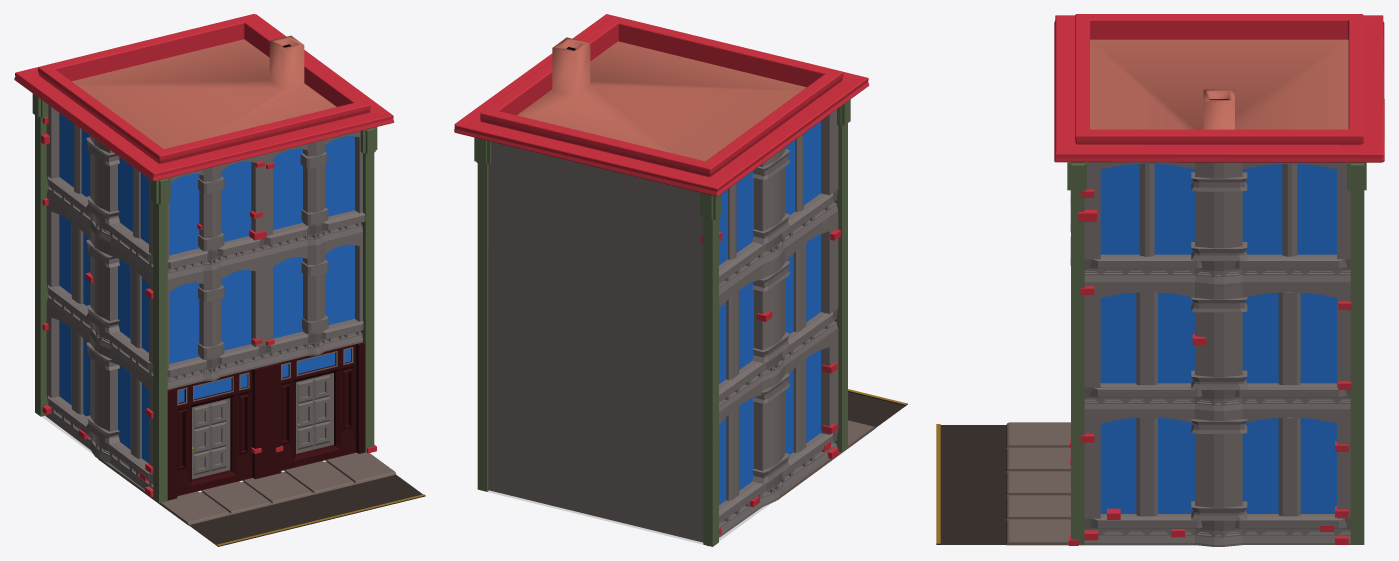
Rendered from PredioNovo4.fbx.
3 views of the same model, side by side, from view 1: azimuth 30°, elevation 25°; view 2: azimuth 150°, elevation 25°; view 3: azimuth 270°, elevation 25° (orthographic). The views are drawn at different scales.
Parts seen in each view (by area): view 1: Teto, Teto.001, Parede.001, Parede.002, Parede.004, Parede.020, Parede.018, Calçada, Parede.019, Rua, Pilastra.002, Pilastra.003 (+20 smaller); view 2: Parede.007, Parede.008, Teto, Parede.009, Teto.001, Parede.020, Parede.018, Parede.019, Pilastra.003, Pilastra.001, Janela.017, Janela.016 (+6 smaller); view 3: Teto, Teto.001, Parede.006, Parede.003, Parede.005, Janela.013, Janela.011, Calçada, Rua, Janela.009, Janela.010, Pilastra.001 (+8 smaller).
Boxes of the visible parts, box(x1,y1,x2,y2) form: Teto: box(14, 14, 394, 181); Teto.001: box(72, 35, 336, 148); Parede.001: box(167, 342, 365, 500); Parede.002: box(167, 234, 362, 389); Parede.004: box(167, 131, 362, 281); Parede.020: box(45, 302, 153, 489); Parede.018: box(46, 197, 153, 381); Calçada: box(98, 452, 395, 525); Parede.019: box(46, 105, 153, 276); Rua: box(189, 475, 425, 546); Pilastra.002: box(151, 177, 170, 502); Pilastra.003: box(32, 93, 49, 416); Parede.007: box(488, 367, 703, 542); Parede.008: box(488, 245, 703, 419); Teto: box(454, 14, 869, 196); Parede.009: box(488, 141, 703, 297); Teto.001: box(517, 37, 806, 161); Parede.020: box(707, 328, 838, 546); Parede.018: box(719, 213, 838, 414); Parede.019: box(719, 109, 838, 296); Pilastra.003: box(700, 192, 721, 546); Pilastra.001: box(474, 137, 491, 491); Janela.017: box(719, 350, 820, 504); Janela.016: box(719, 234, 820, 383); Teto: box(1054, 14, 1384, 162); Teto.001: box(1090, 39, 1348, 129); Parede.006: box(1084, 409, 1350, 546); Parede.003: box(1084, 284, 1350, 410); Parede.005: box(1084, 162, 1350, 285); Janela.013: box(1100, 418, 1336, 513); Janela.011: box(1100, 292, 1336, 383); Calçada: box(1006, 422, 1194, 545); Rua: box(936, 425, 1006, 544); Janela.009: box(1100, 164, 1194, 254); Janela.010: box(1242, 164, 1336, 254); Pilastra.001: box(1347, 162, 1366, 544).
Bounding box in the file's own units: 233 × 343 × 316.
